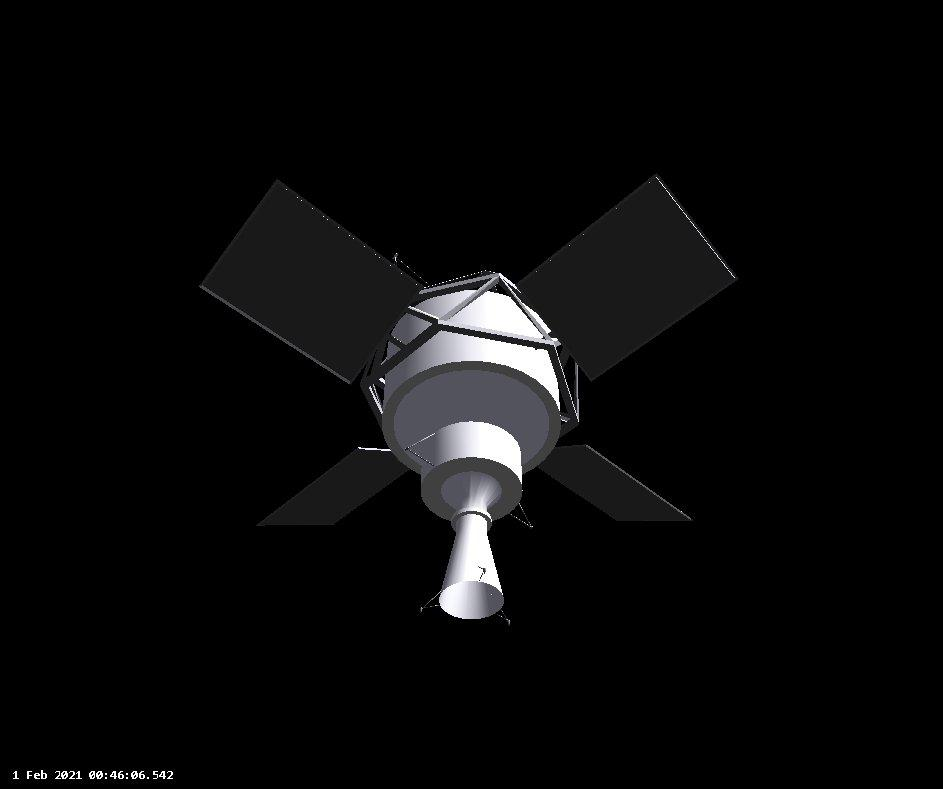body: (380, 288, 563, 480)
solar: (517, 167, 741, 384), (197, 174, 424, 388), (536, 439, 698, 527), (253, 447, 416, 530)
thruster: (434, 496, 508, 620)
